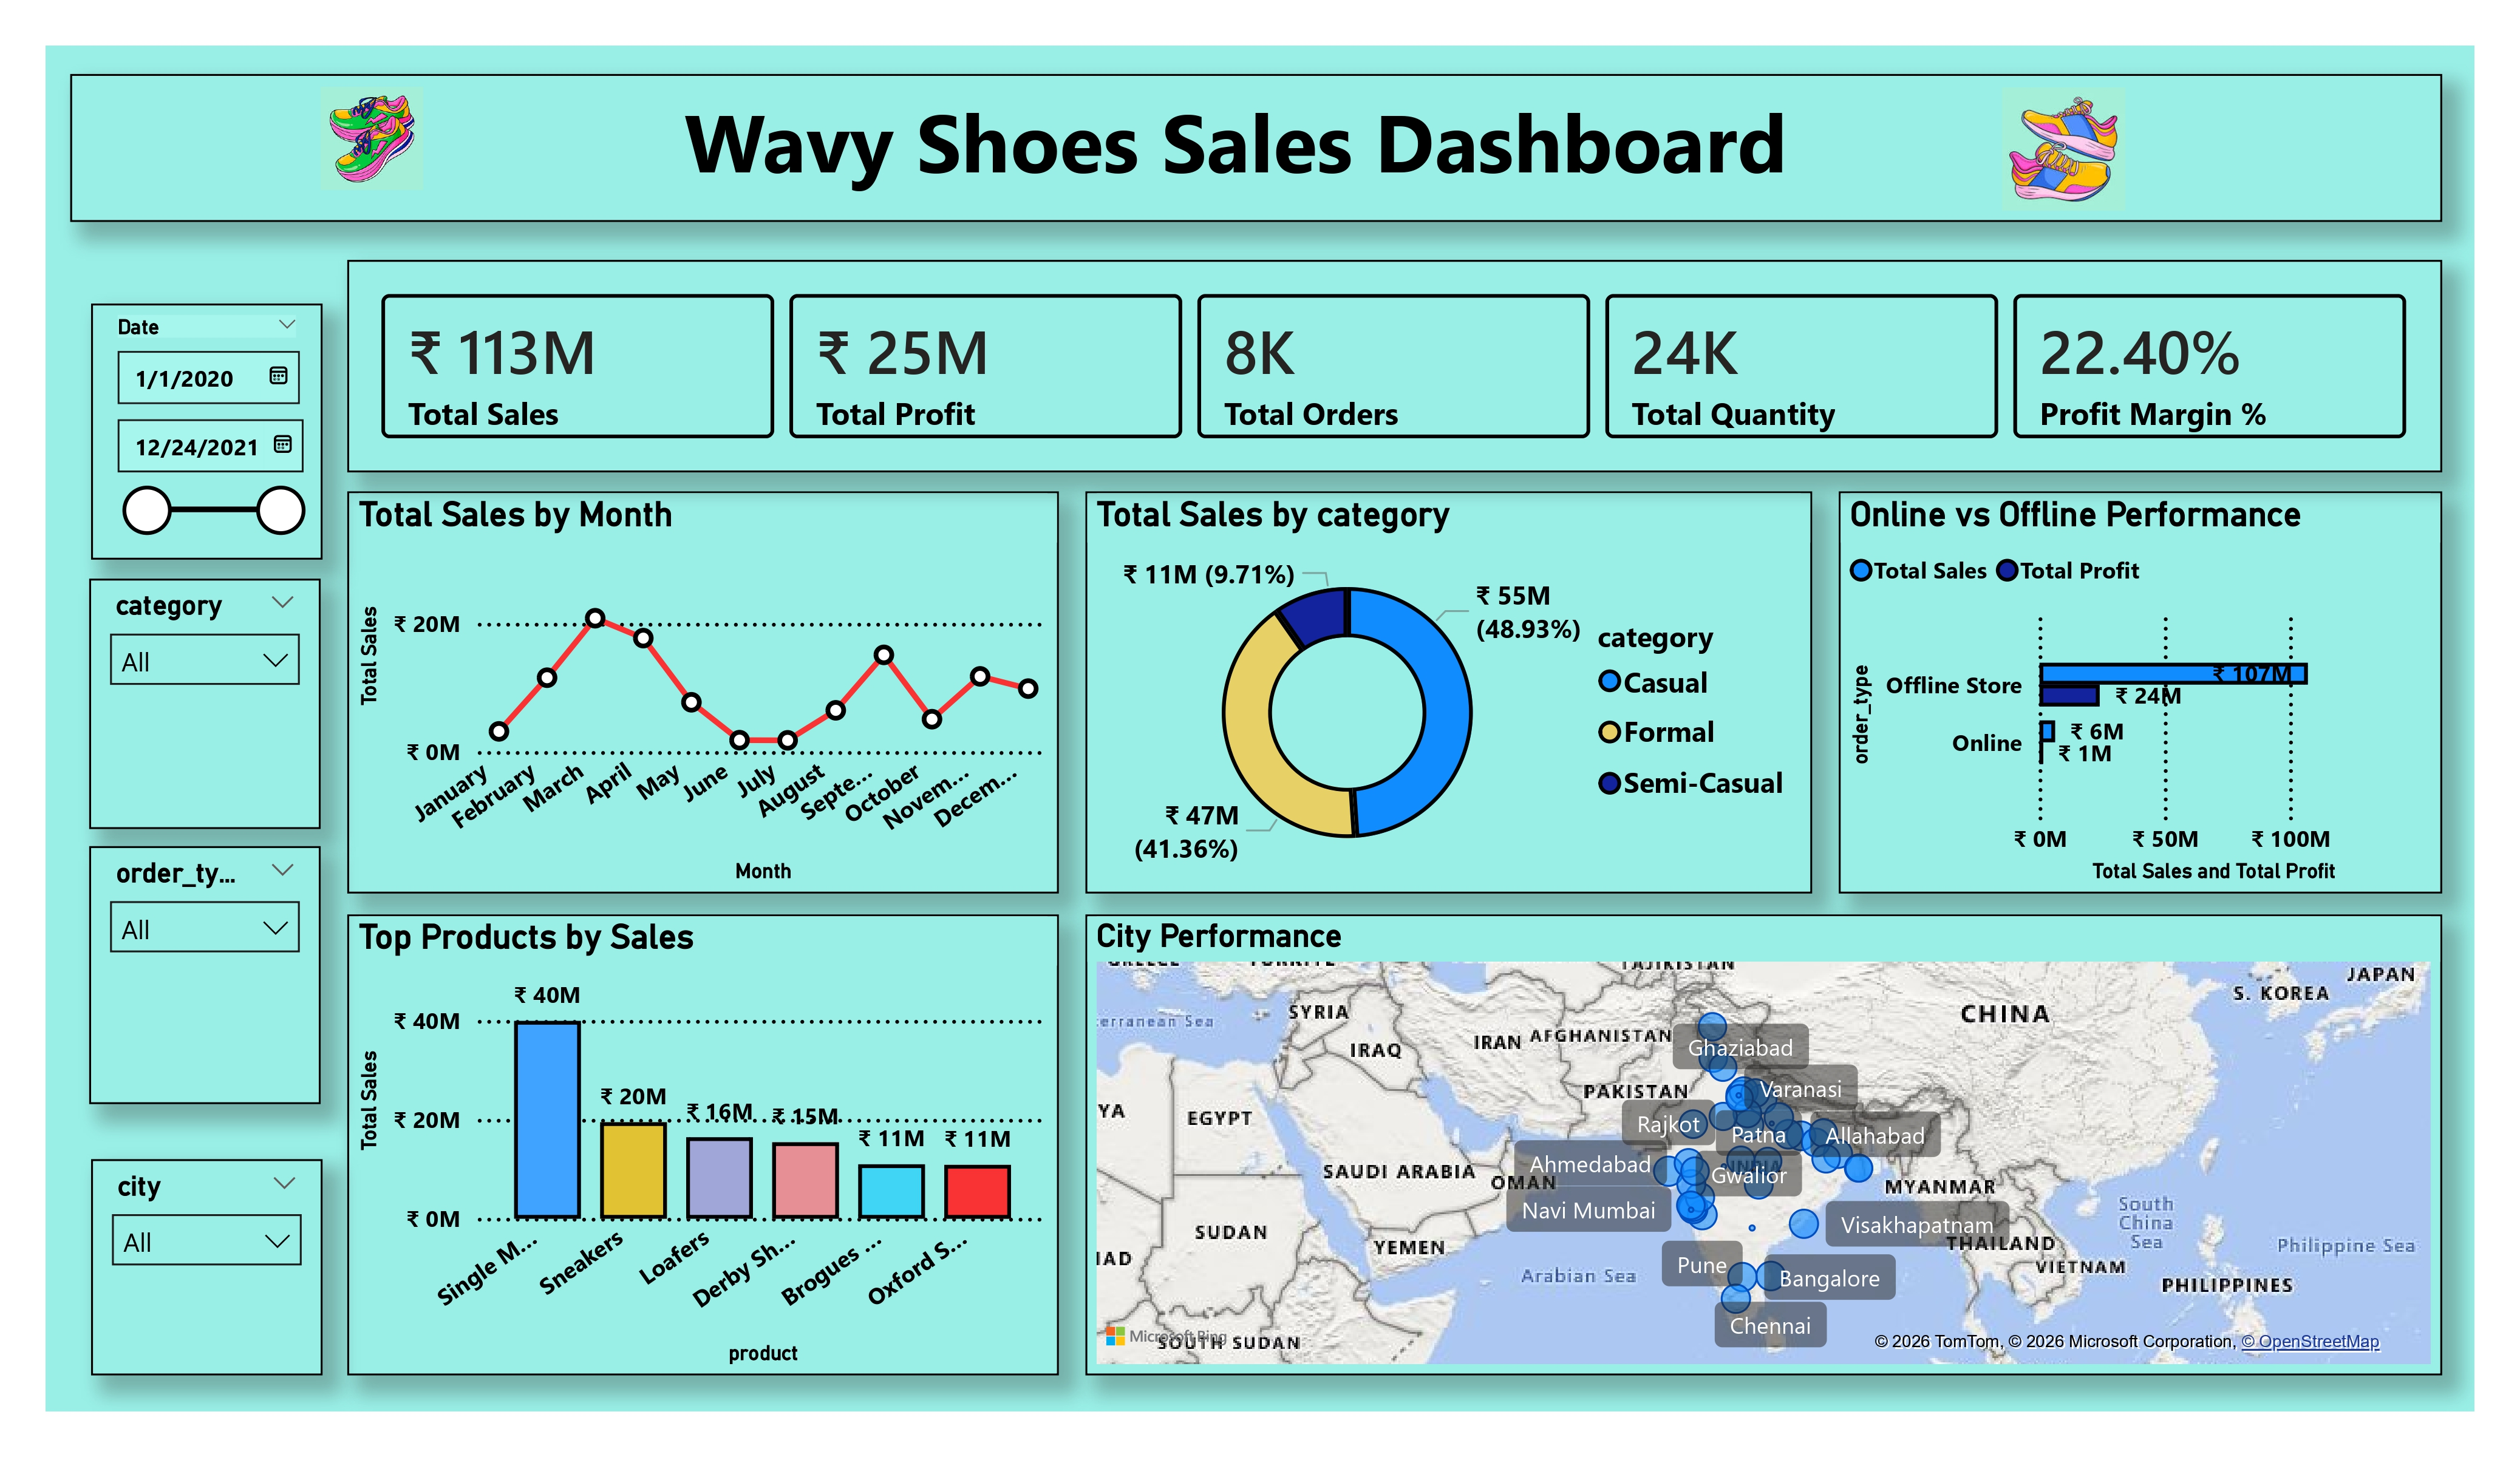

The page's visual inventory and layout, read from the dashboard file:
{"tool":"powerbi","page":{"name":"Overview","canvas":[1280,720],"ordinal":0},"visuals":[{"type":"lineChart","fields":{"Y":["Fact_Sales.Total Sales"],"Category":["Dim_Date.Month"]},"box":[158.6,234.8,375.3,211.8],"z":1},{"type":"donutChart","fields":{"Category":["Dim_Product.category"],"Y":["Fact_Sales.Total Sales"]},"box":[548.4,234.8,382.5,211.8],"z":2},{"type":"clusteredBarChart","title":"Online vs Offline Performance","fields":{"Category":["Fact_Sales.order_type"],"Y":["Fact_Sales.Total Sales","Fact_Sales.Total Profit"]},"box":[945.4,234.8,317.2,211.8],"z":3},{"type":"clusteredColumnChart","title":"Top Products by Sales","fields":{"Category":["Dim_Product.product"],"Y":["Fact_Sales.Total Sales"]},"box":[158.6,457.6,375.3,243.3],"z":4},{"type":"map","title":"City Performance","fields":{"Category":["Dim_Customer.city"],"Size":["Fact_Sales.Total Sales"]},"box":[548.4,457.6,714.2,243.3],"z":5},{"type":"slicer","fields":{"Values":["Dim_Date.order_date"]},"box":[24.2,135.6,122.3,135.6],"z":6},{"type":"slicer","fields":{"Values":["Dim_Product.category"]},"box":[23,280.8,122.3,131.9],"z":7},{"type":"slicer","fields":{"Values":["Fact_Sales.order_type"]},"box":[23,422.5,122.3,135.6],"z":8},{"type":"slicer","fields":{"Values":["Dim_Customer.city"]},"box":[24.2,587.1,122.3,113.8],"z":9},{"type":"textbox","box":[13.3,14.5,1249.2,78.7],"z":10},{"type":"image","box":[24.2,21.8,295.4,54.5],"z":11},{"type":"image","box":[930.9,21.8,265.1,65.4],"z":12},{"type":"cardVisual","fields":{"Data":["Fact_Sales.Total Sales","Fact_Sales.Total Profit","Fact_Sales.Profit Margin %","Fact_Sales.Total Orders","Fact_Sales.Total Quantity"]},"box":[158.6,112.6,1104,112.6],"z":13}]}

Visuals, with their boxes on the page's 1280x720 design canvas (x1, y1, x2, y2). These are canvas units, not pixel positions in the 2520x1457 screenshot, which may show the page scaled, cropped or inside an application window:
lineChart - Fact_Sales.Total Sales x Dim_Date.Month: 159:235:534:447
donutChart - Dim_Product.category x Fact_Sales.Total Sales: 548:235:931:447
"Online vs Offline Performance" clusteredBarChart: 945:235:1263:447
"Top Products by Sales" clusteredColumnChart: 159:458:534:701
"City Performance" map: 548:458:1263:701
slicer - Dim_Date.order_date: 24:136:146:271
slicer - Dim_Product.category: 23:281:145:413
slicer - Fact_Sales.order_type: 23:422:145:558
slicer - Dim_Customer.city: 24:587:146:701
textbox: 13:14:1262:93
image: 24:22:320:76
image: 931:22:1196:87
cardVisual - Fact_Sales.Total Sales x Fact_Sales.Total Profit: 159:113:1263:225
